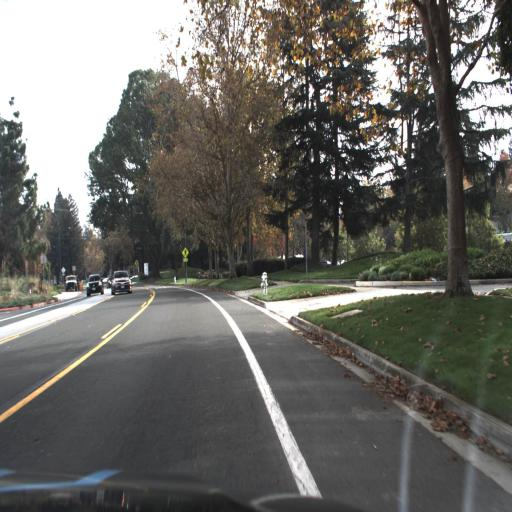car: (83, 272, 105, 298), (111, 271, 133, 293), (65, 274, 77, 293)
